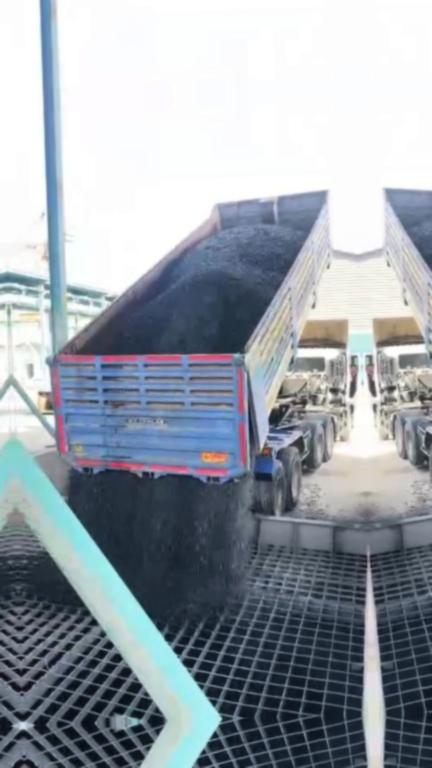gravel: (90, 225, 304, 354), (69, 471, 251, 621), (28, 556, 80, 605)
